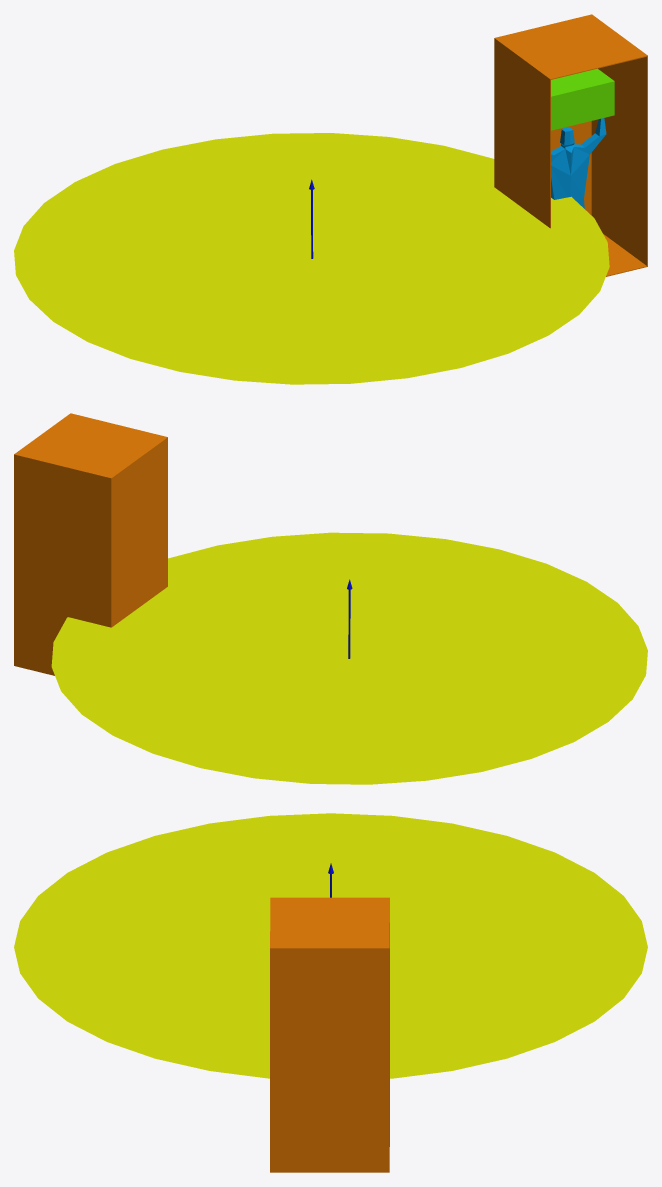
The model's file is grade_two-forces_on_a_rotating_man.glb.
3 renders of one model, top to bottom at view 1: azimuth 30°, elevation 25°; view 2: azimuth 150°, elevation 25°; view 3: azimuth 270°, elevation 25°, orthographic. The views are drawn at different scales.
Parts seen in each view (by area): view 1: Circle, Cube; view 2: Circle, Cube; view 3: Circle, Cube.
Part boxes in pixels (box(x1,y1,x2,y2)): Circle: box(14, 133, 609, 384); Cube: box(494, 14, 647, 276); Circle: box(51, 532, 647, 784); Cube: box(14, 413, 167, 675); Circle: box(14, 813, 647, 1078); Cube: box(270, 897, 389, 1172).
Bounding box in the file's own units: 5.32 × 1.9 × 4.85.
